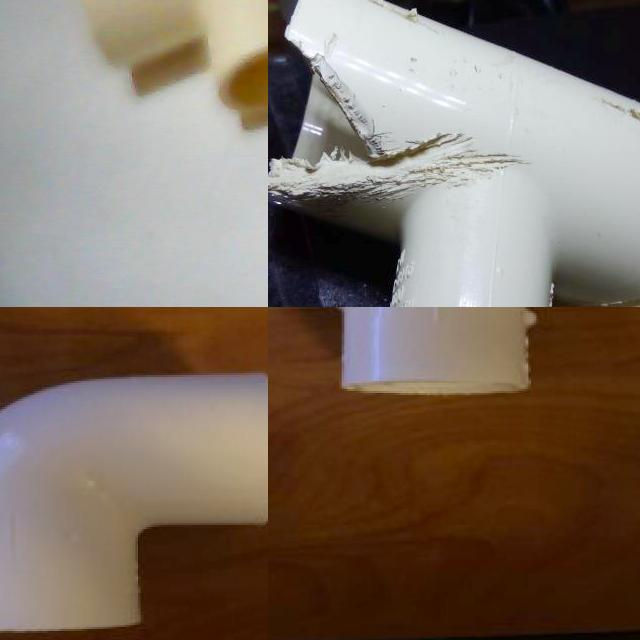Defective: (294, 52, 456, 197), (268, 157, 513, 197), (599, 97, 640, 190), (364, 0, 462, 32)
L Joint: (0, 373, 268, 636), (268, 307, 536, 398)
